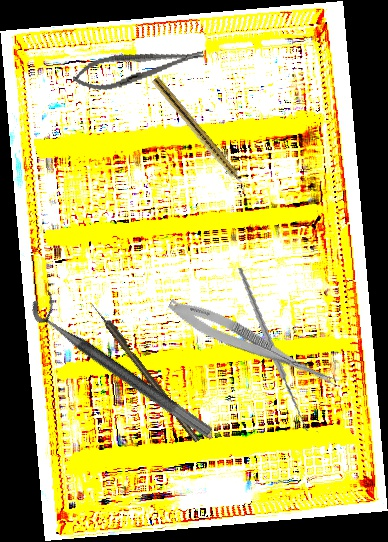Fixation Ring: (25, 287, 224, 439)
Handpiece: (149, 75, 251, 195)
Hook Surgical: (214, 267, 341, 433), (89, 300, 201, 444)
Micro Scissor: (163, 293, 346, 393)
Needle Holder: (70, 38, 207, 97)
